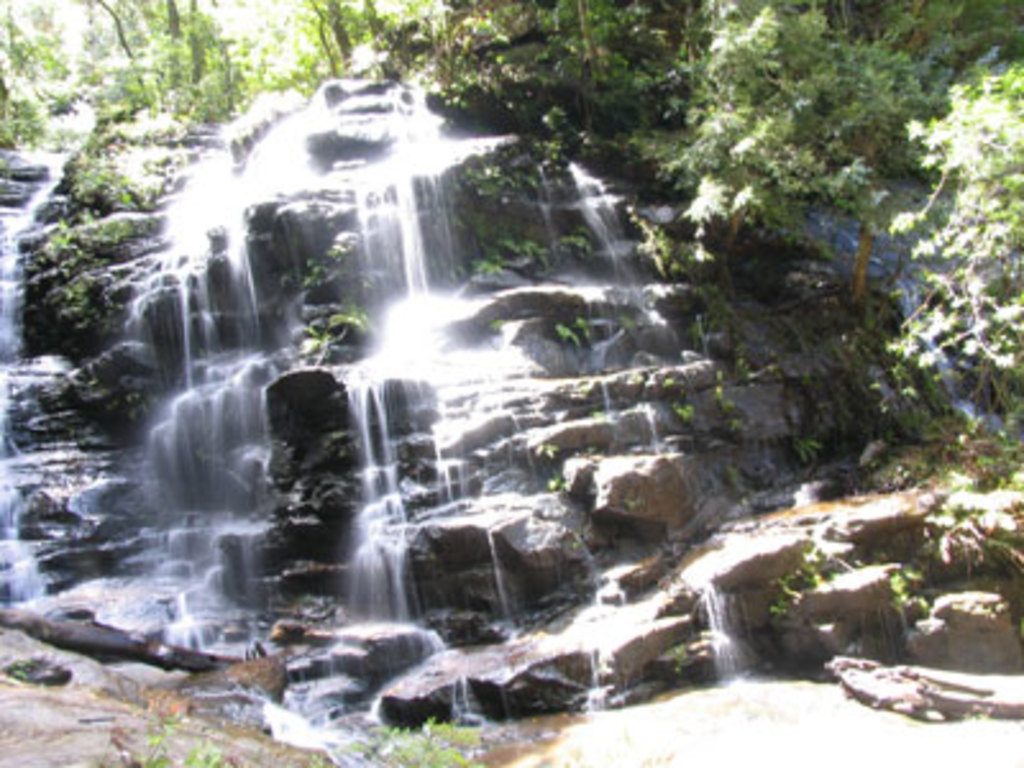Tree: (442, 0, 1024, 462), (1, 0, 448, 151)
